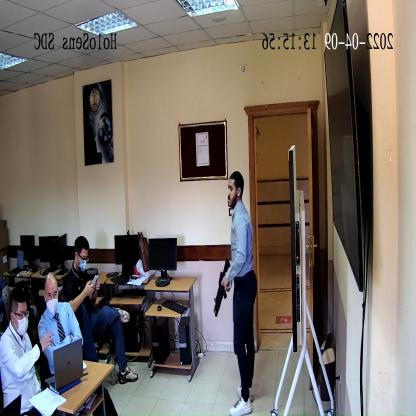handgun: (212, 256, 231, 321)
